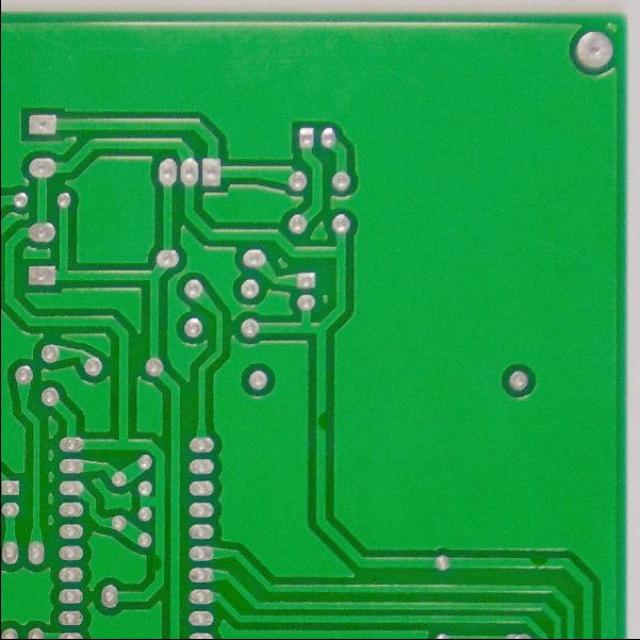mouse_bite: (523, 554, 553, 572), (147, 550, 166, 578), (313, 408, 330, 438)
